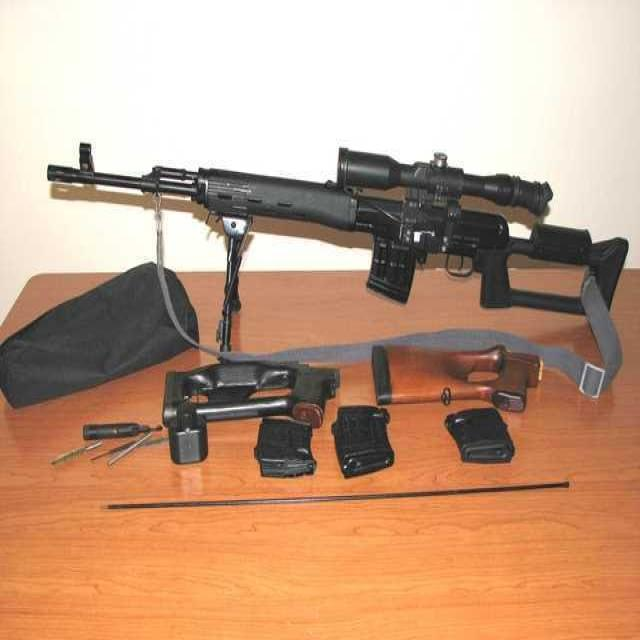heavyweapon: (51, 109, 640, 355)
